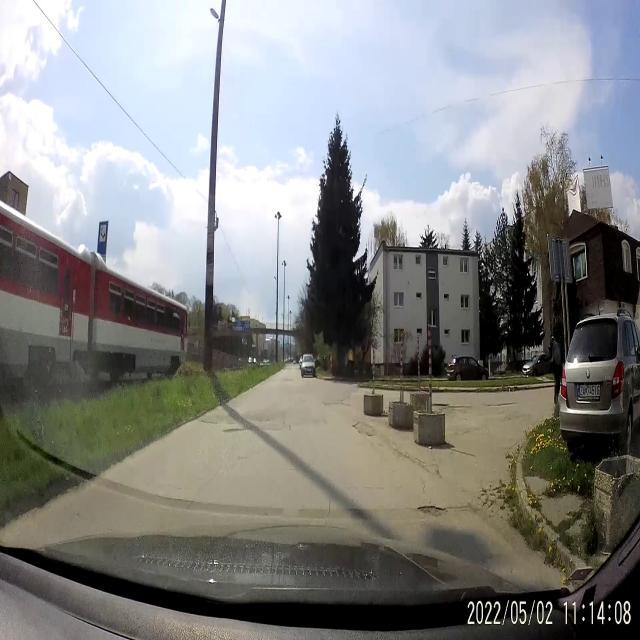Pothole: (414, 496, 444, 524), (350, 415, 376, 442), (222, 425, 246, 434)
